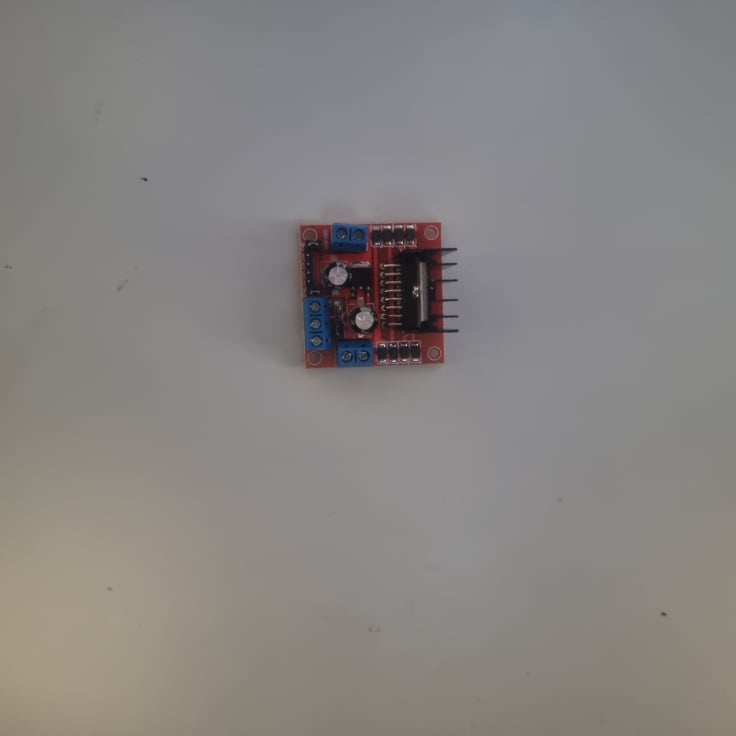MOTOR: (299, 220, 458, 374)
